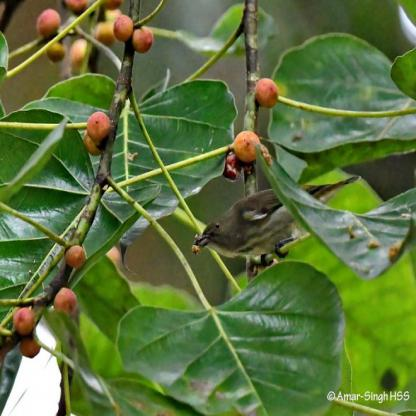Burung: (190, 169, 360, 266)
